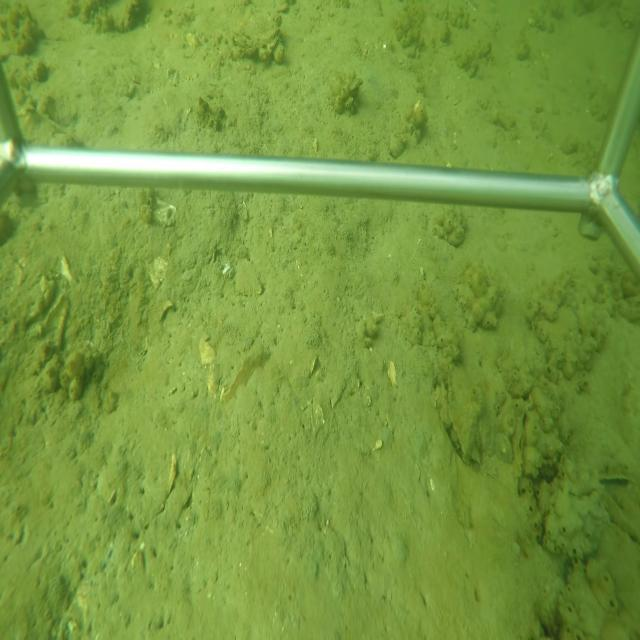Oyster-Closed: (230, 8, 282, 53), (334, 74, 363, 110), (516, 407, 526, 475)
Oyster-Indeterminate: (445, 358, 489, 466)
